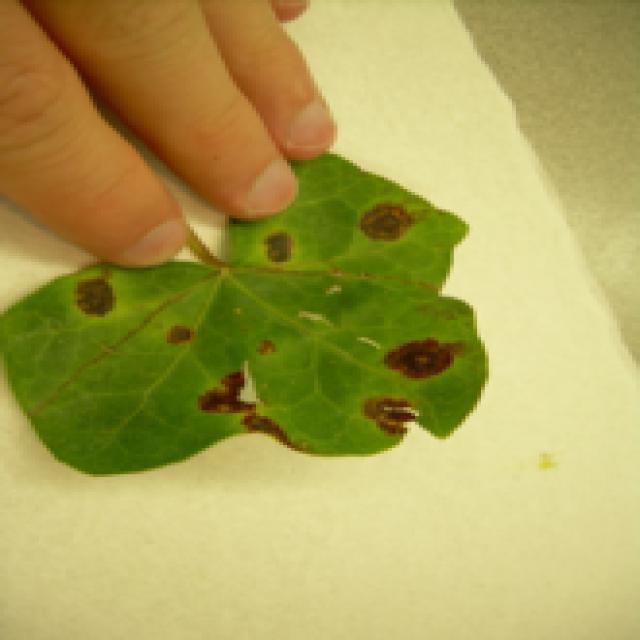Bacterial Blight: (74, 280, 463, 434)
